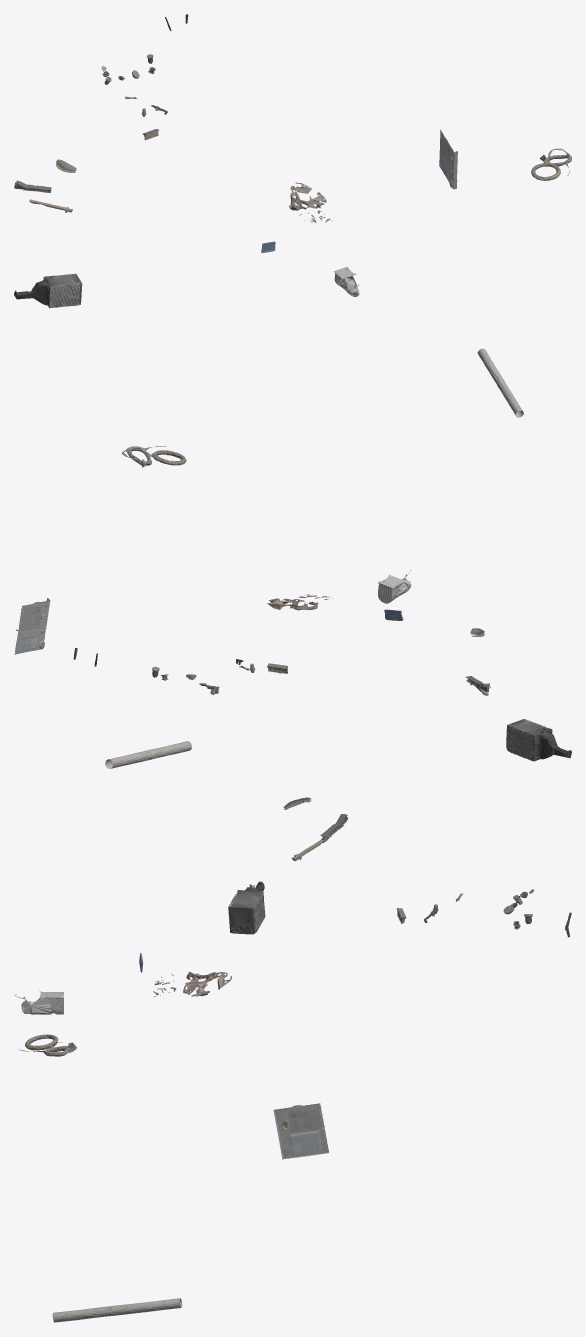
File: models-1-1.glb
The picture shows the model from 3 angles, top to bottom: view 1: azimuth 30°, elevation 25°; view 2: azimuth 150°, elevation 25°; view 3: azimuth 270°, elevation 25°; orthographic projection. The views are drawn at different scales.
Parts seen in each view (by area): view 1: obj-1-417, obj-1-414, obj-1-571, obj-1-775, obj-1-115; view 2: obj-1-417, obj-1-414, obj-1-571, obj-1-613, obj-1-115, obj-1-775; view 3: obj-1-414, obj-1-417, obj-1-571, obj-1-613, obj-1-775, obj-1-115.
Boxes of the visible parts, left/top/right/bottom form: obj-1-417: left=14, top=273, right=82, bottom=308; obj-1-414: left=439, top=129, right=457, bottom=189; obj-1-571: left=477, top=348, right=523, bottom=417; obj-1-775: left=289, top=182, right=332, bottom=222; obj-1-115: left=531, top=148, right=571, bottom=180; obj-1-417: left=506, top=719, right=571, bottom=761; obj-1-414: left=14, top=598, right=50, bottom=654; obj-1-571: left=105, top=741, right=191, bottom=768; obj-1-613: left=378, top=569, right=411, bottom=603; obj-1-115: left=122, top=446, right=186, bottom=467; obj-1-775: left=267, top=594, right=332, bottom=610; obj-1-414: left=273, top=1103, right=329, bottom=1160; obj-1-417: left=228, top=881, right=265, bottom=934; obj-1-571: left=52, top=1298, right=182, bottom=1322; obj-1-613: left=14, top=990, right=63, bottom=1014; obj-1-775: left=153, top=971, right=231, bottom=996; obj-1-115: left=19, top=1034, right=77, bottom=1056.
Bounding box in the file's own units: 7.6 × 4.26 × 6.55.
